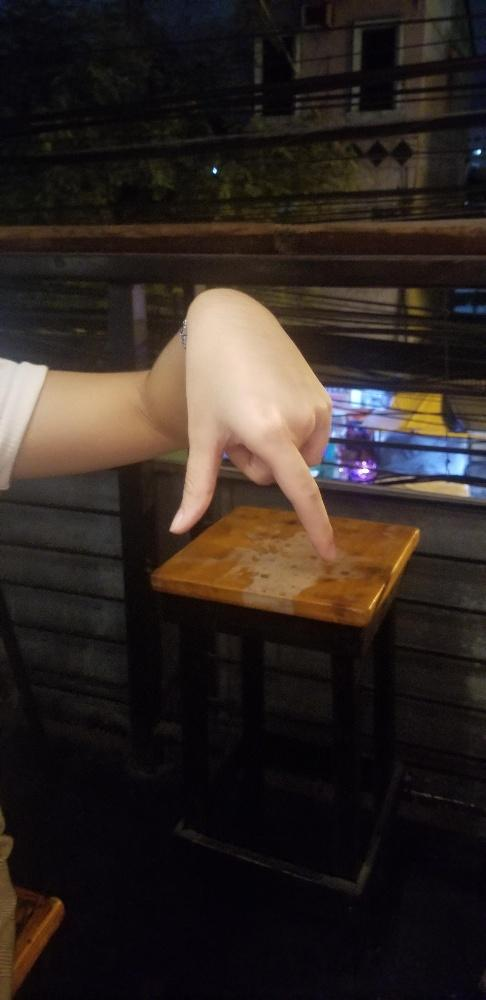q: (166, 284, 338, 563)
